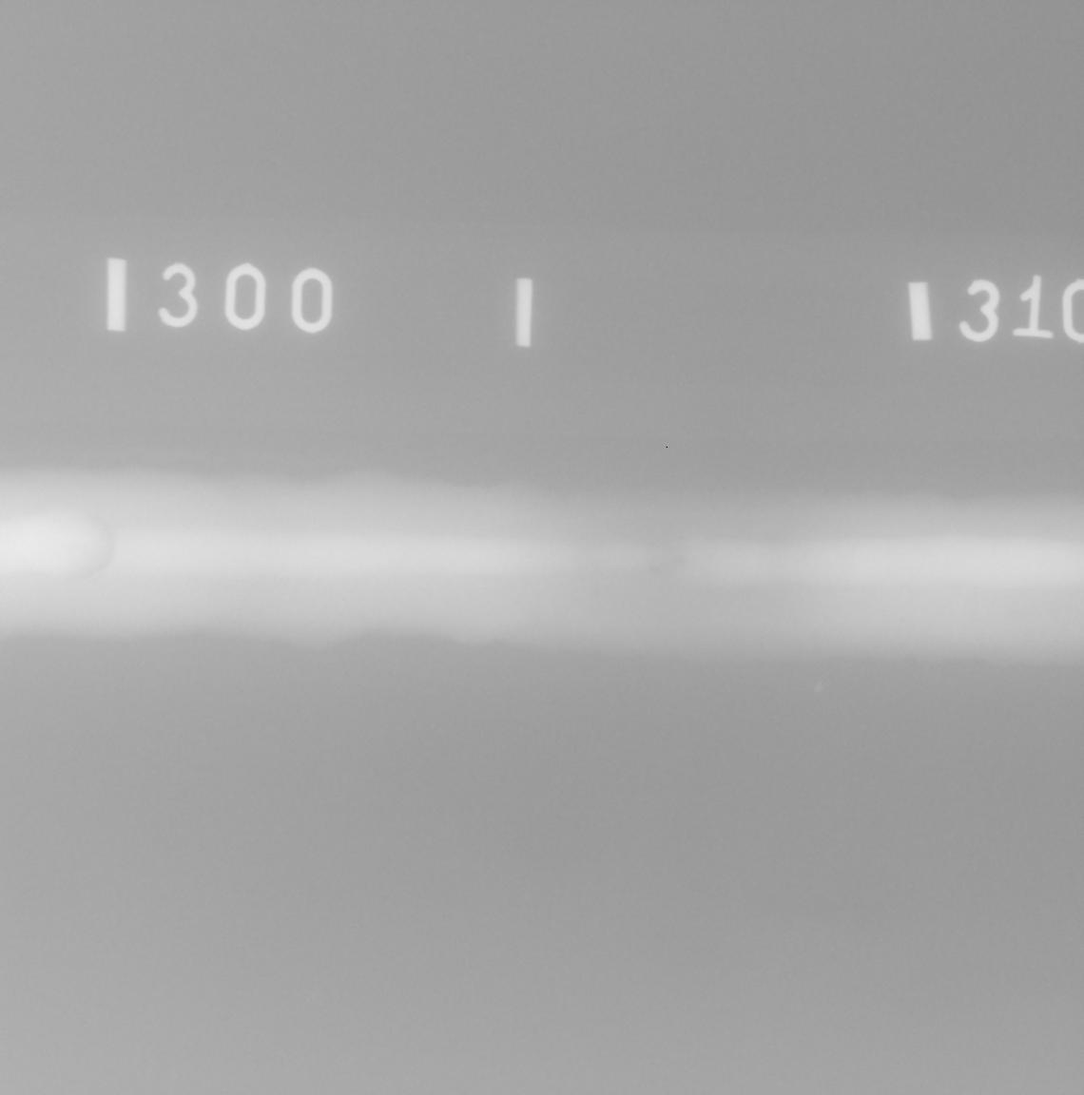Inclusion: (650, 567, 663, 575)
Pore/Porosity: (900, 618, 904, 622)
